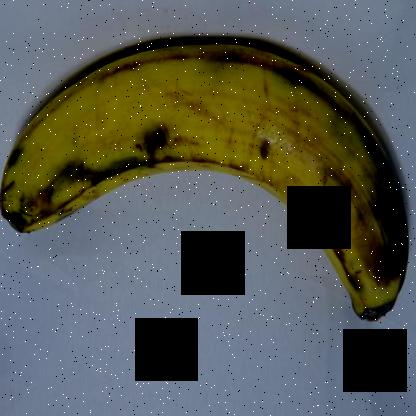ripe: (1, 21, 408, 334)
